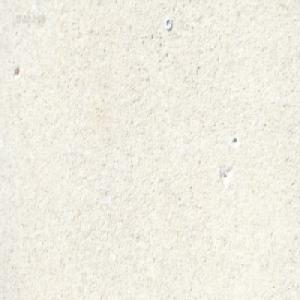Washer: (164, 16, 172, 30)
